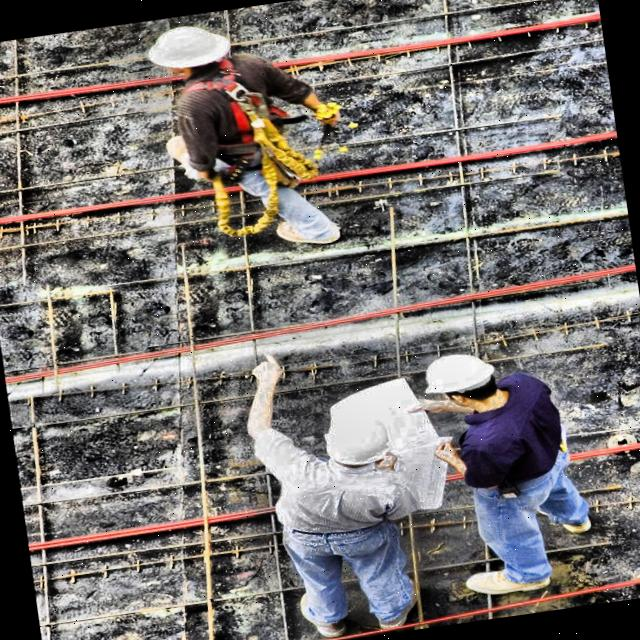helmet: (139, 18, 235, 86), (422, 348, 509, 412), (318, 410, 402, 474)
